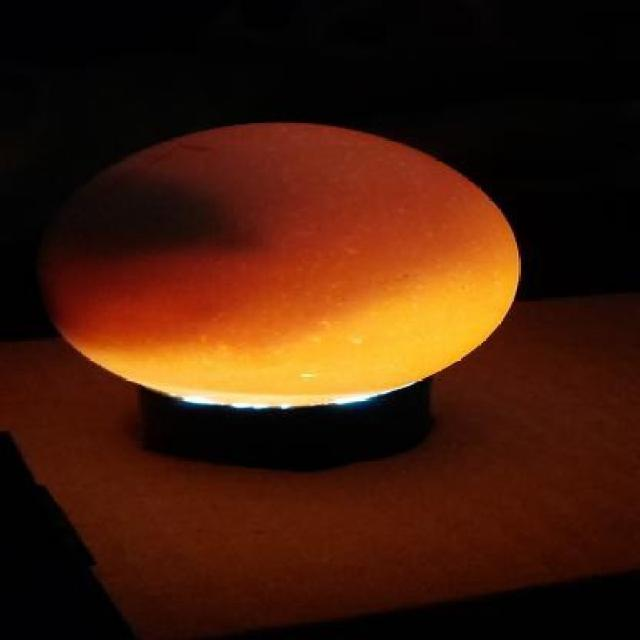Eggs: (40, 121, 521, 408)
